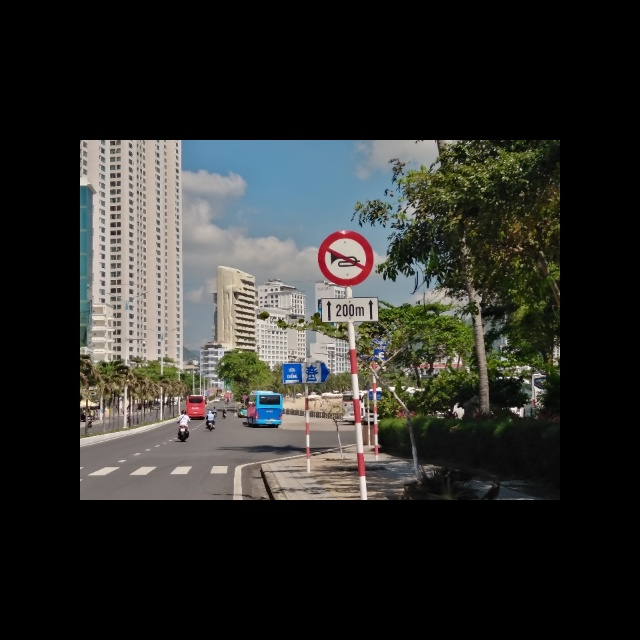Cấm bấm còi: (317, 231, 374, 287)
